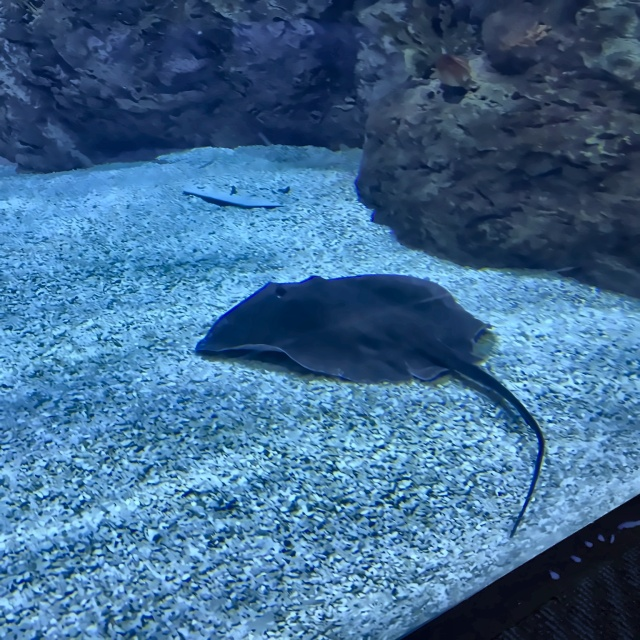stingray: (196, 276, 492, 383)
